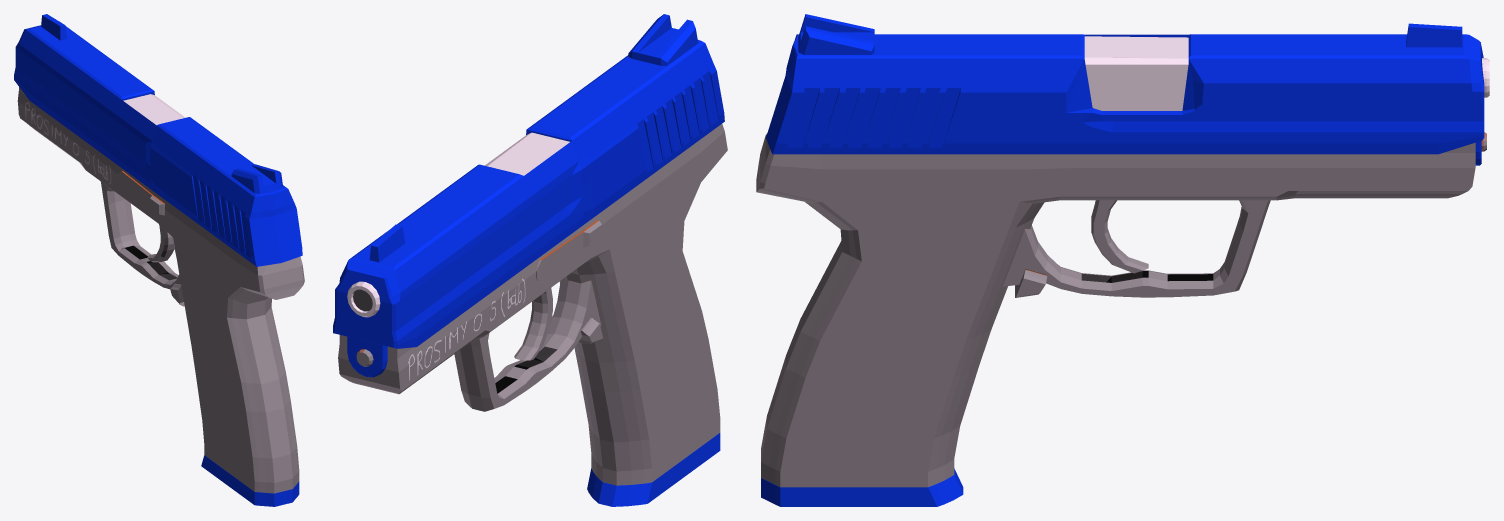
File: PISTOLETBLUE.glb
3 views of the same model, side by side, from view 1: azimuth 30°, elevation 25°; view 2: azimuth 150°, elevation 25°; view 3: azimuth 270°, elevation 25° (orthographic). The views are drawn at different scales.
Visible parts, largest first — view 1: Cube.001, Cube, Cube.003, Cube.002; view 2: Cube.001, Cube, Cube.002, Cube.003; view 3: Cube.001, Cube, Cube.002, Cube.003.
Part boxes in pixels (x1,y1,x2,y2): Cube.001: (17, 87, 304, 493); Cube: (14, 14, 302, 266); Cube.003: (201, 455, 299, 506); Cube.002: (123, 94, 185, 125); Cube.001: (338, 124, 727, 485); Cube: (333, 14, 724, 377); Cube.002: (347, 132, 569, 317); Cube.003: (587, 433, 720, 506); Cube.001: (756, 132, 1486, 487); Cube: (766, 14, 1484, 165); Cube.002: (1084, 36, 1489, 110); Cube.003: (761, 468, 963, 506).
Bounding box in the file's own units: 0.8479 × 5.15 × 7.3.
Materials: 4 (4 with a texture image).
